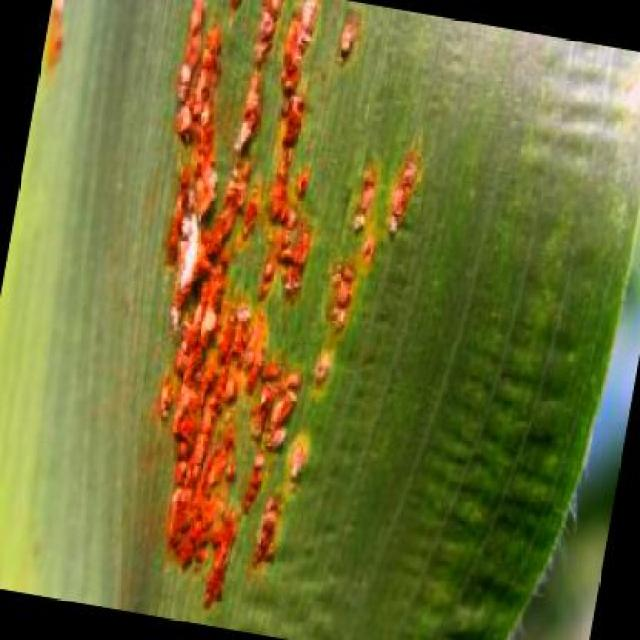Corn_Rust: (77, 36, 538, 594)
